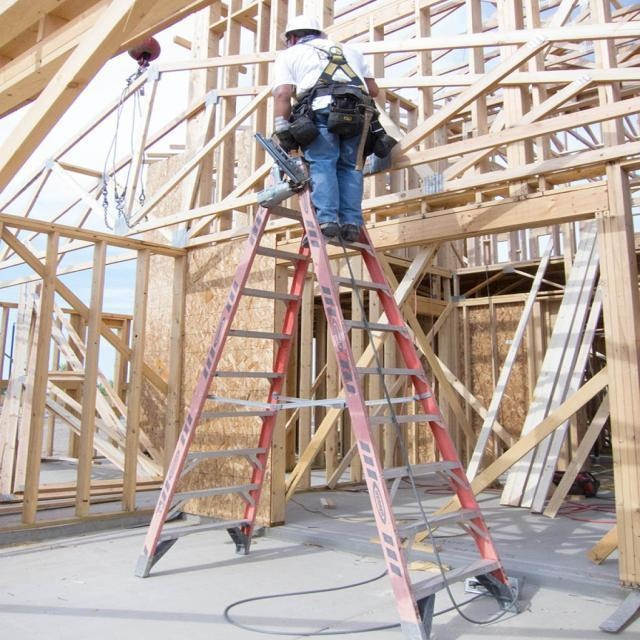Arnes_seguridad: (293, 42, 378, 145)
